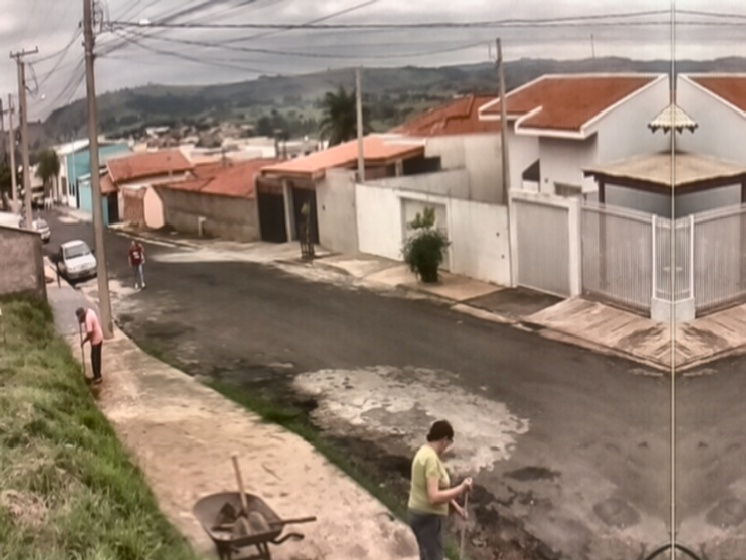person: (406, 420, 473, 560), (75, 307, 105, 384), (127, 239, 146, 291)
